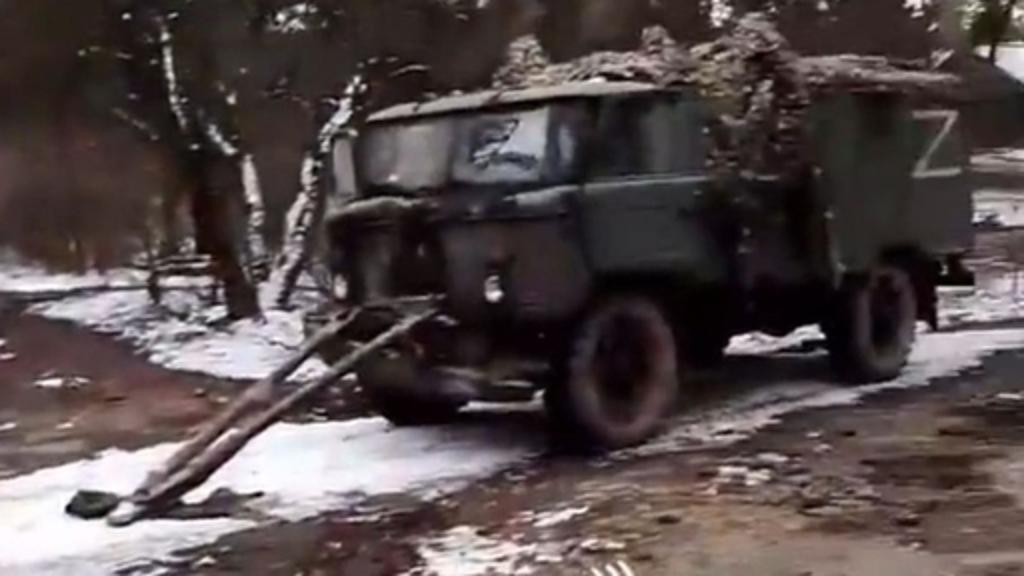TRUCK: (302, 48, 976, 448)
